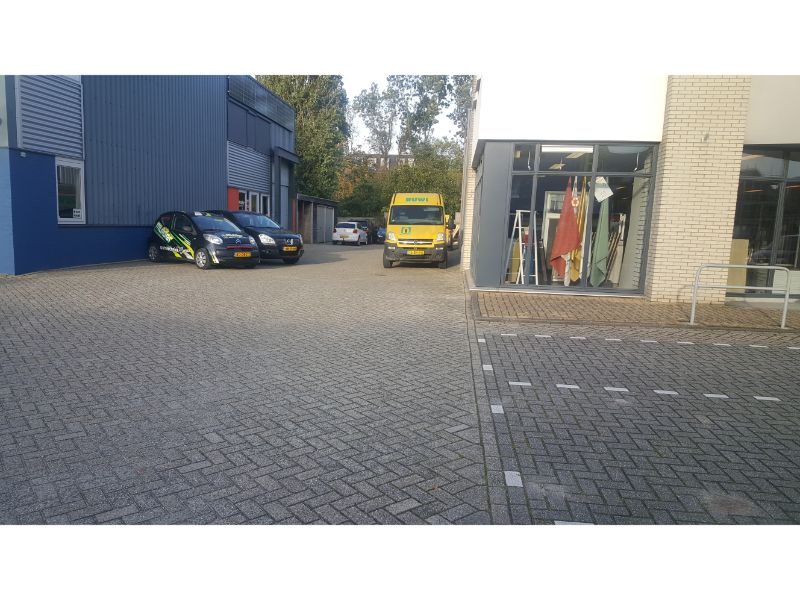kenteken: (404, 249, 426, 254), (233, 251, 251, 257), (283, 247, 297, 251)
